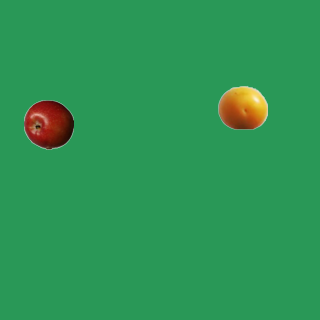Apple Braeburn: (23, 99, 73, 149)
Cherry Wax Yellow: (217, 82, 267, 132)
